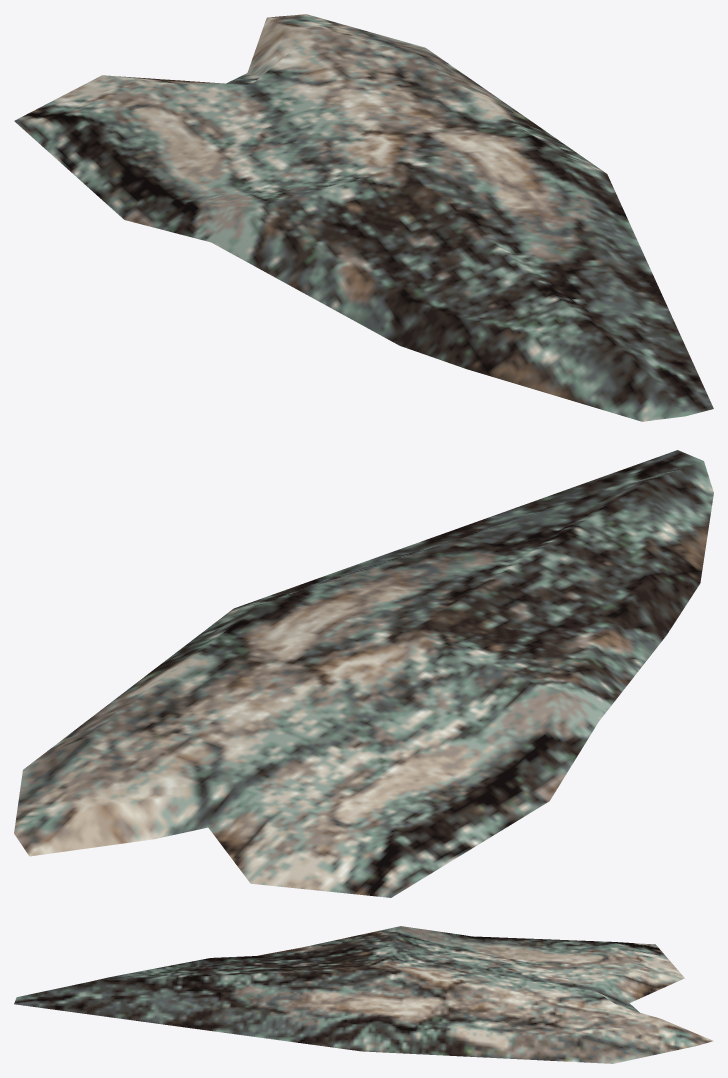
The model's file is fp_pieceofwood.glb.
3 renders of one model, top to bottom at view 1: azimuth 30°, elevation 25°; view 2: azimuth 150°, elevation 25°; view 3: azimuth 270°, elevation 25°, orthographic. The views are drawn at different scales.
Visible parts, largest first — view 1: _MeshInstance3D_32; view 2: _MeshInstance3D_32; view 3: _MeshInstance3D_32.
Boxes of the visible parts, <box> form: _MeshInstance3D_32: <box>14,14,713,421</box>; _MeshInstance3D_32: <box>14,450,713,897</box>; _MeshInstance3D_32: <box>14,926,713,1063</box>.
Bounding box in the file's own units: 0.5822 × 0.0821 × 1.34.
Materials: 1 (1 with a texture image).
